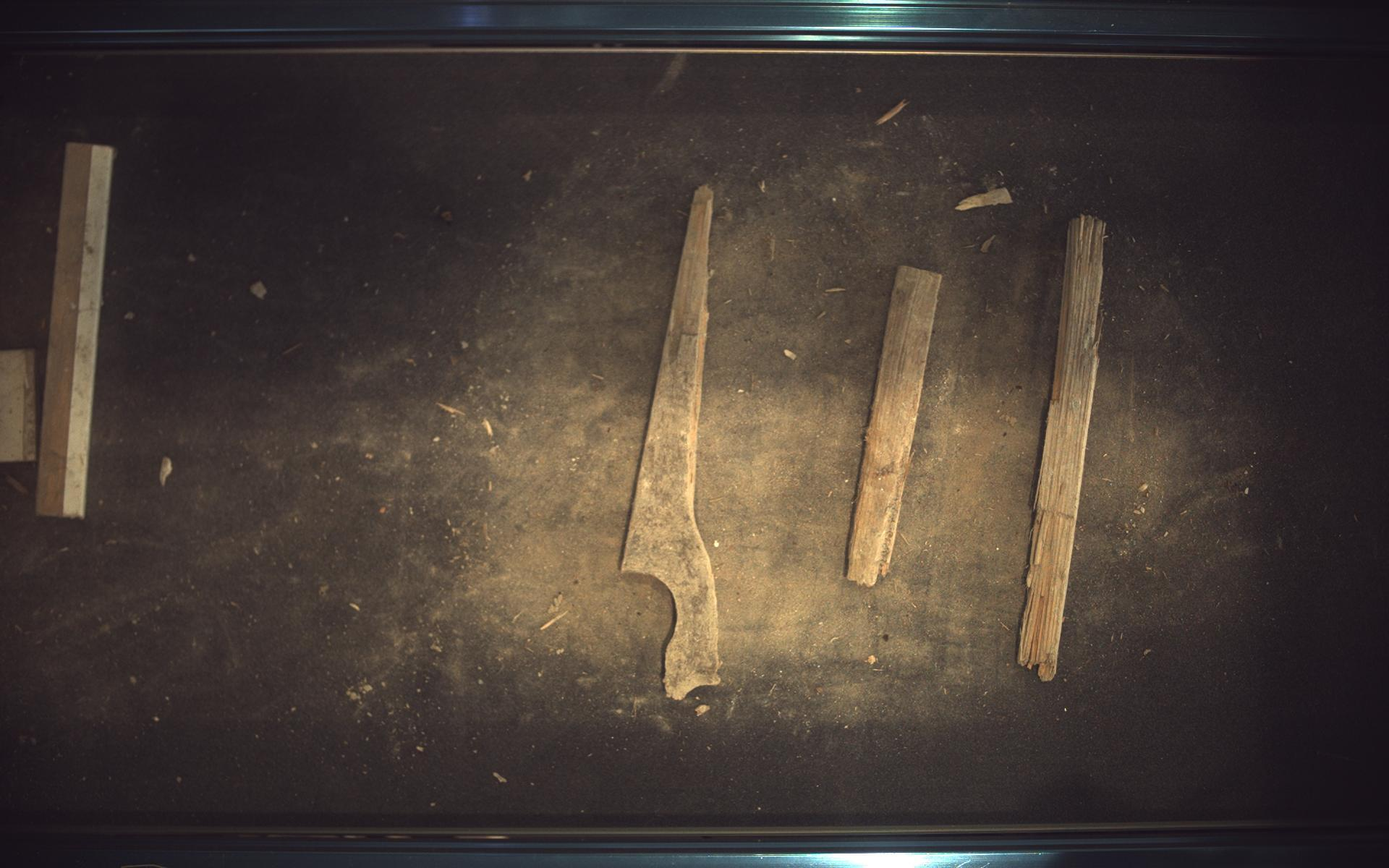wood: (621, 184, 722, 701), (1019, 214, 1108, 682), (849, 265, 944, 587)
